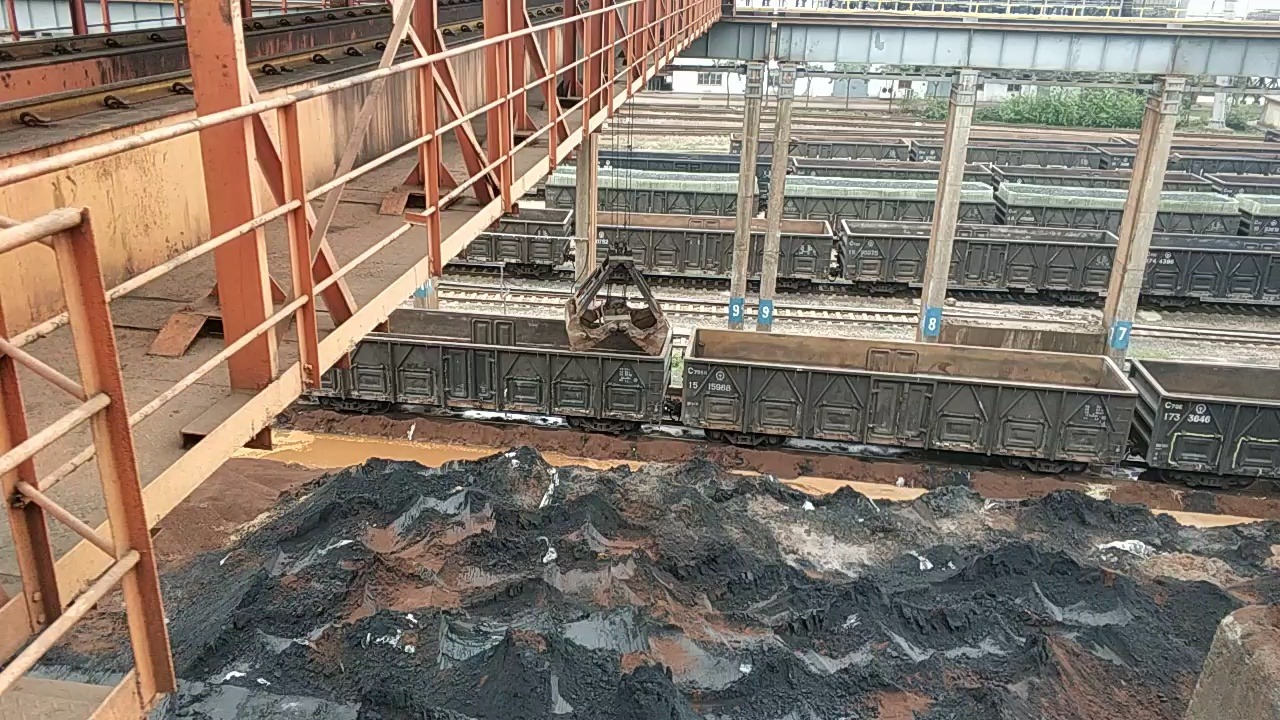grab: (559, 231, 675, 361)
